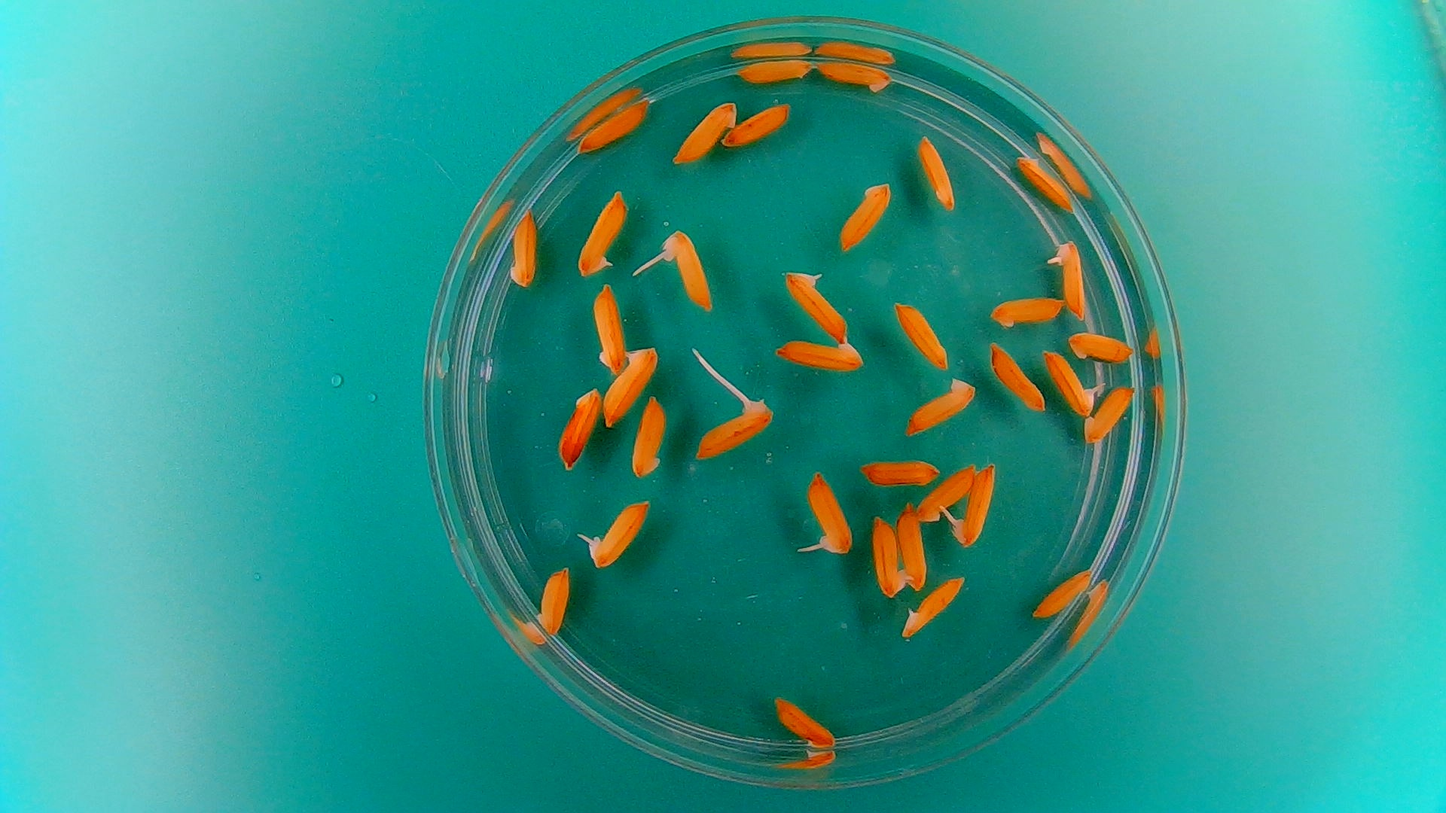no: (576, 93, 654, 154), (904, 373, 978, 437), (673, 97, 737, 168), (987, 338, 1047, 413), (901, 574, 969, 640), (554, 382, 602, 473), (602, 346, 657, 425), (892, 300, 950, 372), (837, 179, 893, 253), (914, 461, 978, 524), (1014, 151, 1075, 212), (590, 281, 629, 376), (1084, 382, 1139, 446), (772, 694, 838, 747), (914, 132, 957, 212), (629, 393, 668, 481), (773, 335, 865, 372), (1031, 566, 1094, 620), (895, 499, 931, 592), (722, 100, 793, 147), (871, 513, 908, 598), (533, 566, 572, 638), (989, 292, 1066, 328), (507, 206, 539, 291), (856, 457, 942, 488), (816, 59, 893, 93), (1069, 327, 1138, 364), (735, 58, 813, 84)
yes: (575, 184, 630, 279), (783, 270, 852, 341), (805, 461, 854, 559), (693, 397, 773, 457), (587, 500, 653, 572), (950, 462, 996, 549), (1047, 236, 1091, 323), (1041, 347, 1098, 414), (663, 233, 711, 311)
